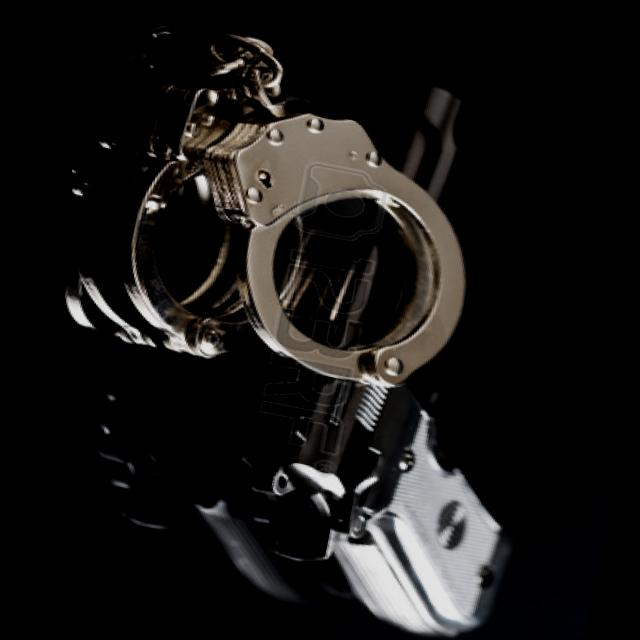handgun: (224, 60, 594, 639)
